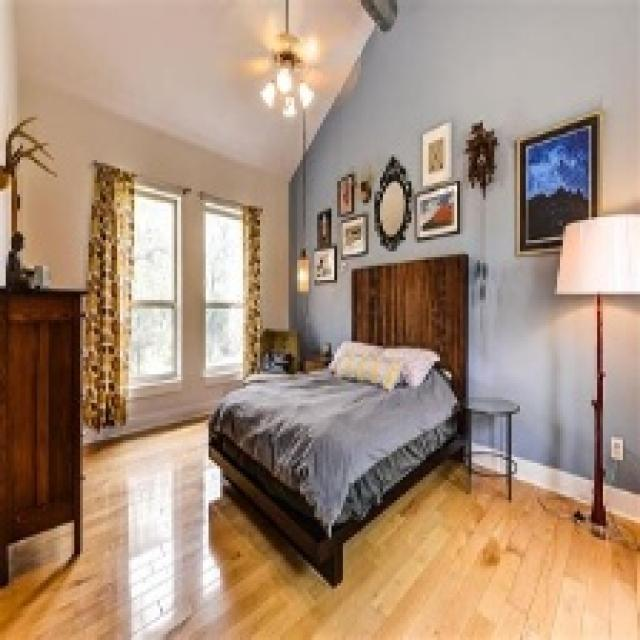Bed: (206, 251, 468, 586)
